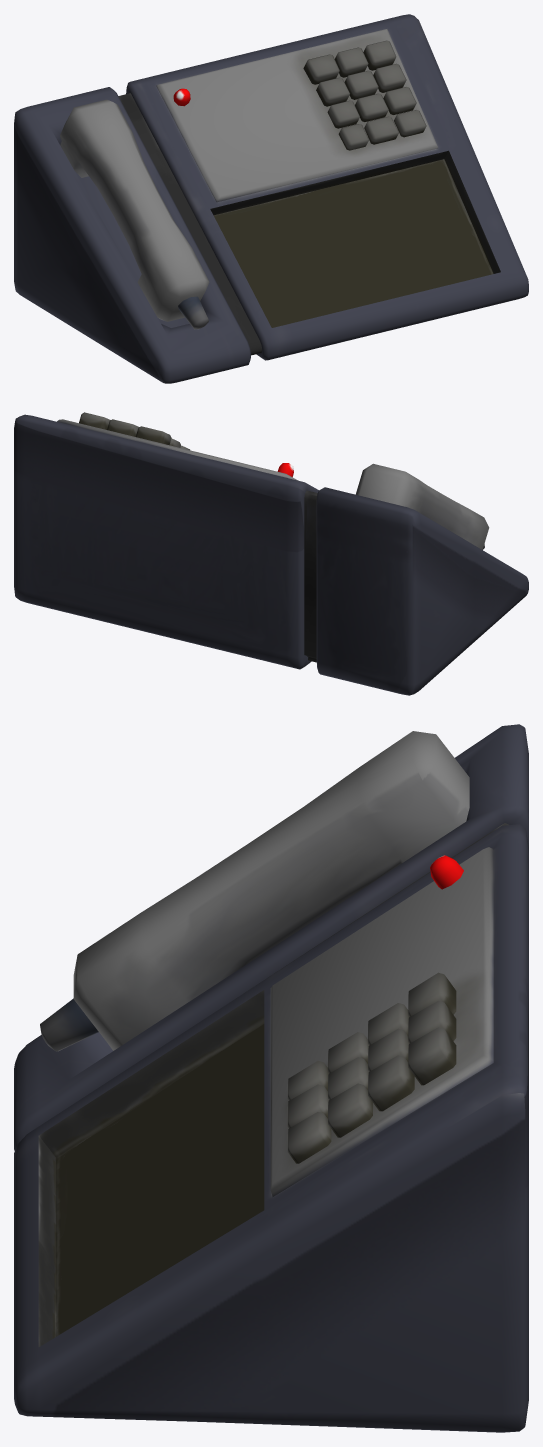
Rendered from PRP_Phone.fbx.
3 views of the same model, one above another, from view 1: azimuth 30°, elevation 25°; view 2: azimuth 150°, elevation 25°; view 3: azimuth 270°, elevation 25° (orthographic). The views are drawn at different scales.
Visible parts, largest first — view 1: Cube.003, Cube.005; view 2: Cube.003, Cube.005; view 3: Cube.003, Cube.005.
Boxes of the visible parts, x1=… form: Cube.003: x1=14, y1=14, x2=528, y2=383; Cube.005: x1=60, y1=99, x2=209, y2=329; Cube.003: x1=14, y1=412, x2=528, y2=695; Cube.005: x1=355, y1=463, x2=489, y2=549; Cube.003: x1=14, y1=724, x2=528, y2=1432; Cube.005: x1=40, y1=731, x2=469, y2=1051.
Bounding box in the file's own units: 292 × 137 × 171.
1 material, 1 textured.
